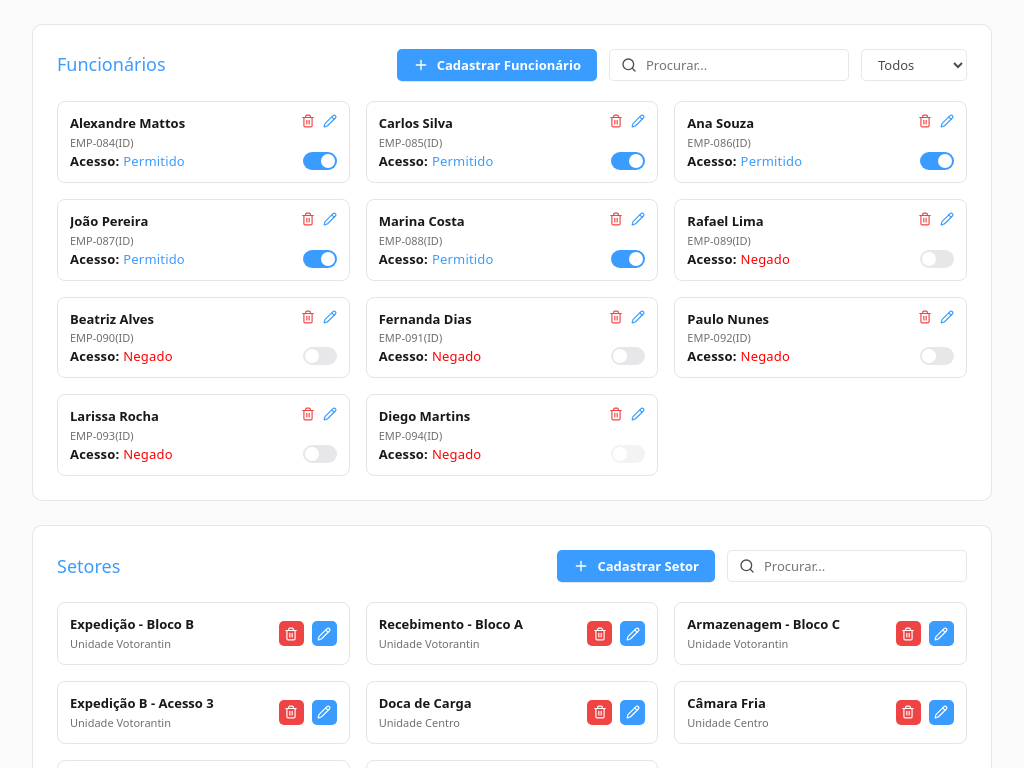
EquipePage: employees section › drops a card from the view when the access filter no longer matches
The width and height of the screenshot is (1024, 768).
Expected: the heading "Funcionários" is shown, [57,54,166,76]
Select "Permitido" in the dropdown named "Filtrar por acesso" at (914, 65), box [861,49,967,81]
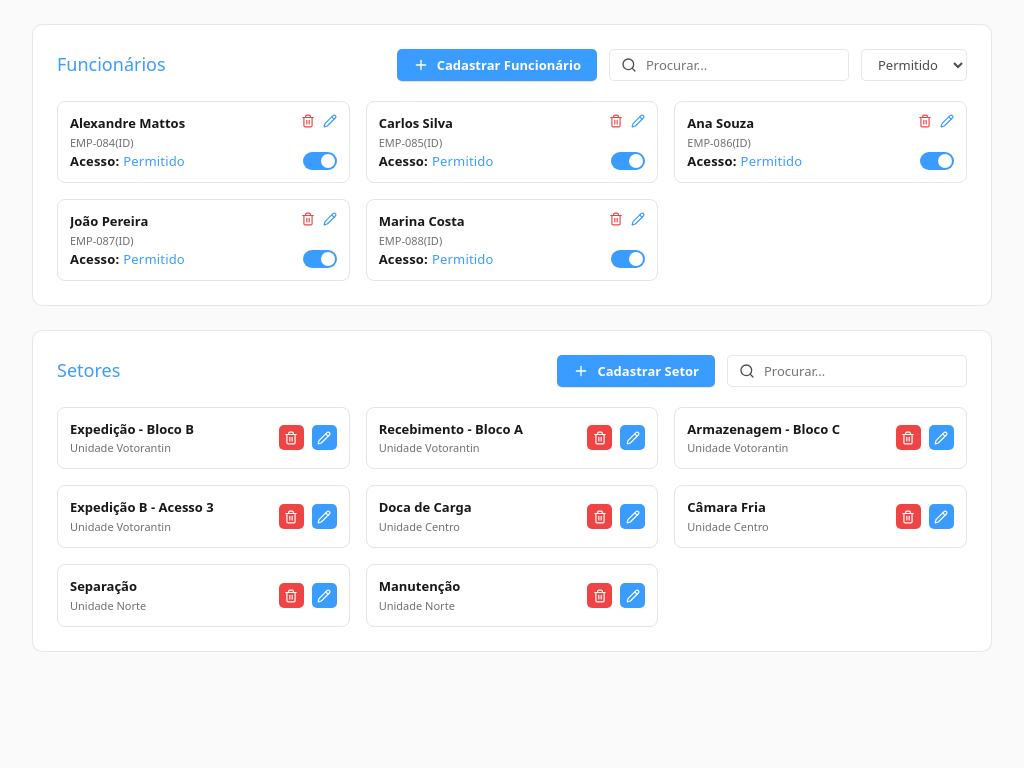
Click the switch named "Alterar acesso de Alexandre Mattos" at (320, 161), box [303,152,337,170]
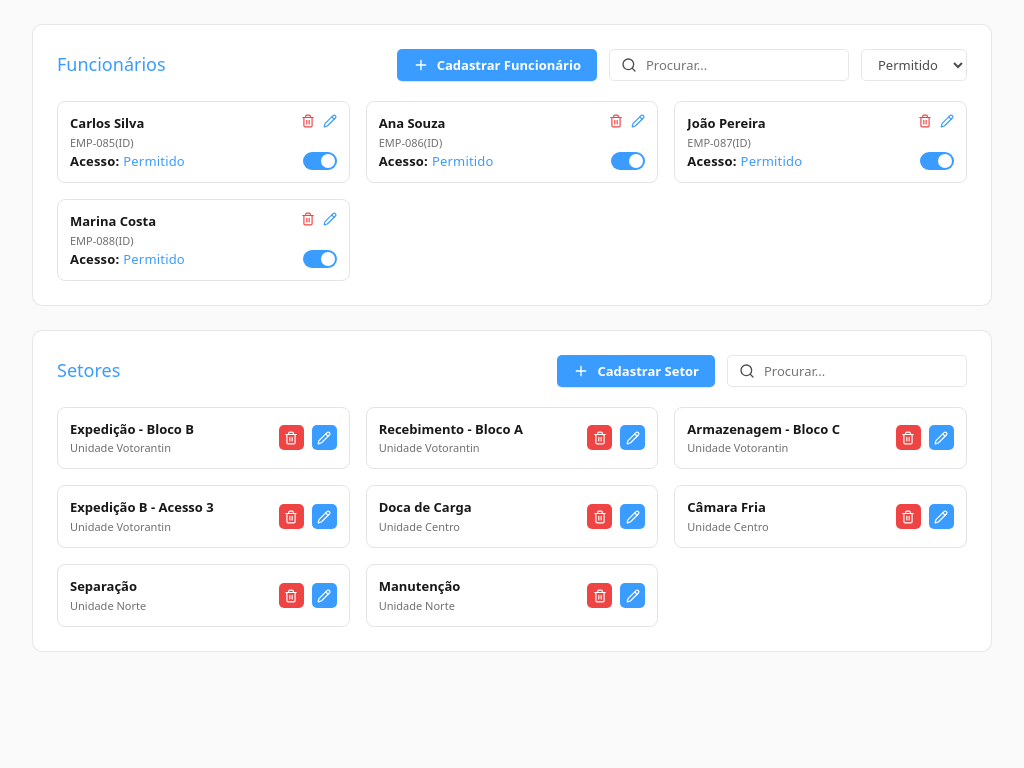
Expected: the button "Alexandre Mattos" is gone
